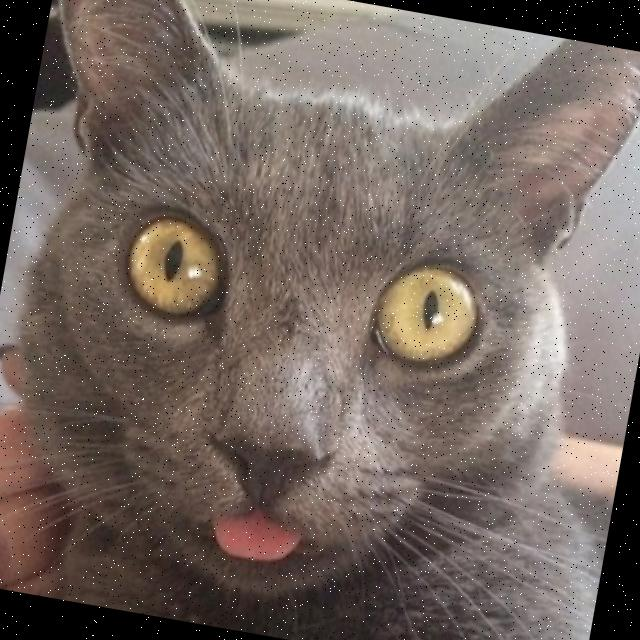Surprised: (38, 148, 530, 638)
